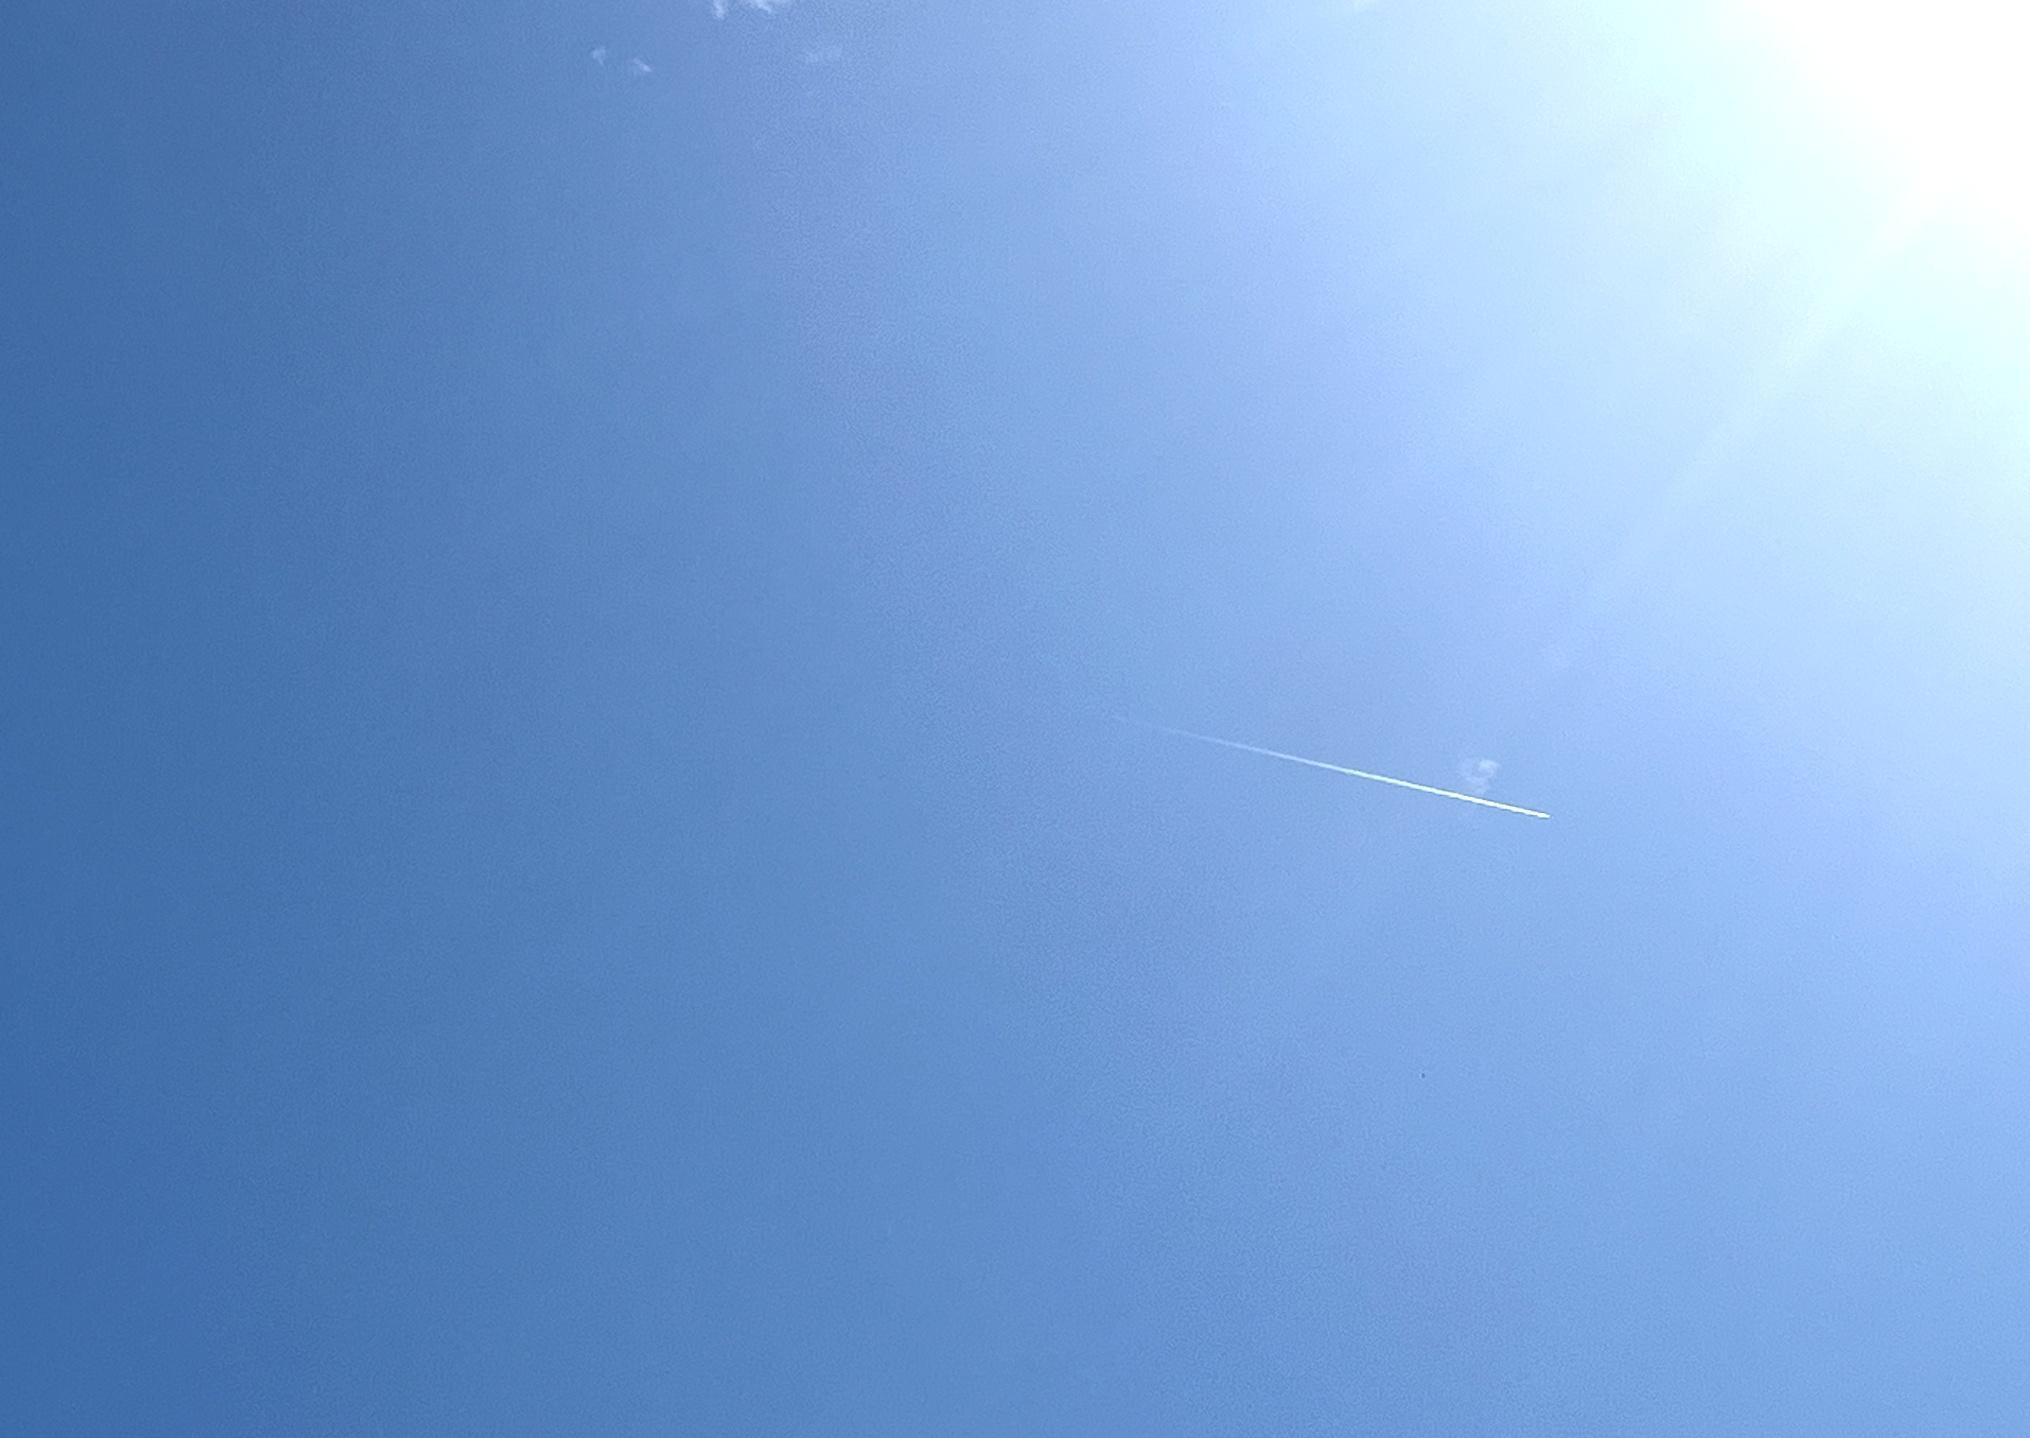Plane: (1129, 714, 1576, 842)
